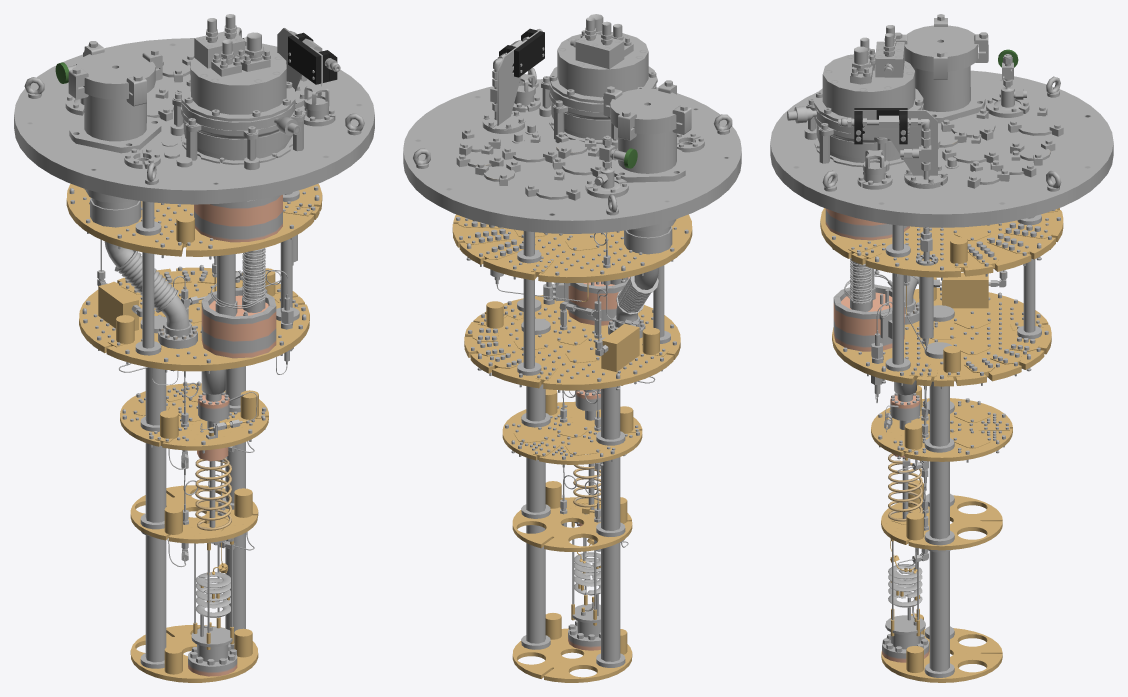
The model's file is SModel_01.gltf.
3 renders of one model, left to right at view 1: azimuth 30°, elevation 25°; view 2: azimuth 150°, elevation 25°; view 3: azimuth 270°, elevation 25°, orthographic. The views are drawn at different scales.
Parts seen in each view (by area): view 1: S_Main.001, S_SmallBits.001; view 2: S_Main.001, S_SmallBits.001; view 3: S_Main.001, S_SmallBits.001.
Boxes of the visible parts, bbox=[...] form: S_Main.001: bbox=[14, 14, 374, 682]; S_SmallBits.001: bbox=[69, 55, 335, 674]; S_Main.001: bbox=[403, 14, 741, 682]; S_SmallBits.001: bbox=[456, 95, 704, 667]; S_Main.001: bbox=[770, 14, 1113, 682]; S_SmallBits.001: bbox=[832, 106, 1063, 677].
Size of the model in its own units: 0.5876 by 1.18 by 0.5876.
2 materials, 2 textured.
